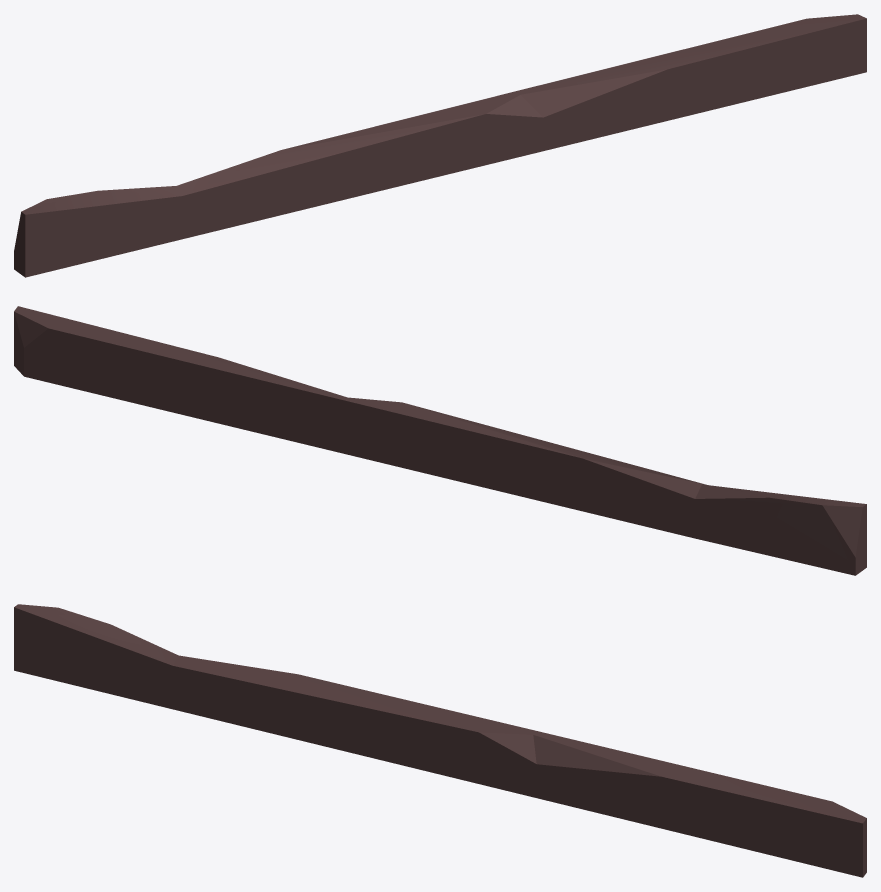
File: prop_60.FBX
The picture shows the model from 3 angles, top to bottom: view 1: azimuth 30°, elevation 25°; view 2: azimuth 150°, elevation 25°; view 3: azimuth 330°, elevation 25°; orthographic projection.
Parts seen in each view (by area): view 1: prop_60; view 2: prop_60; view 3: prop_60.
Boxes of the visible parts, box(x1,y1,x2,y2) form: prop_60: box(14, 14, 866, 277); prop_60: box(14, 306, 866, 575); prop_60: box(14, 604, 866, 877).
Size of the model in its own units: 87.58 by 6.25 by 2.71.
